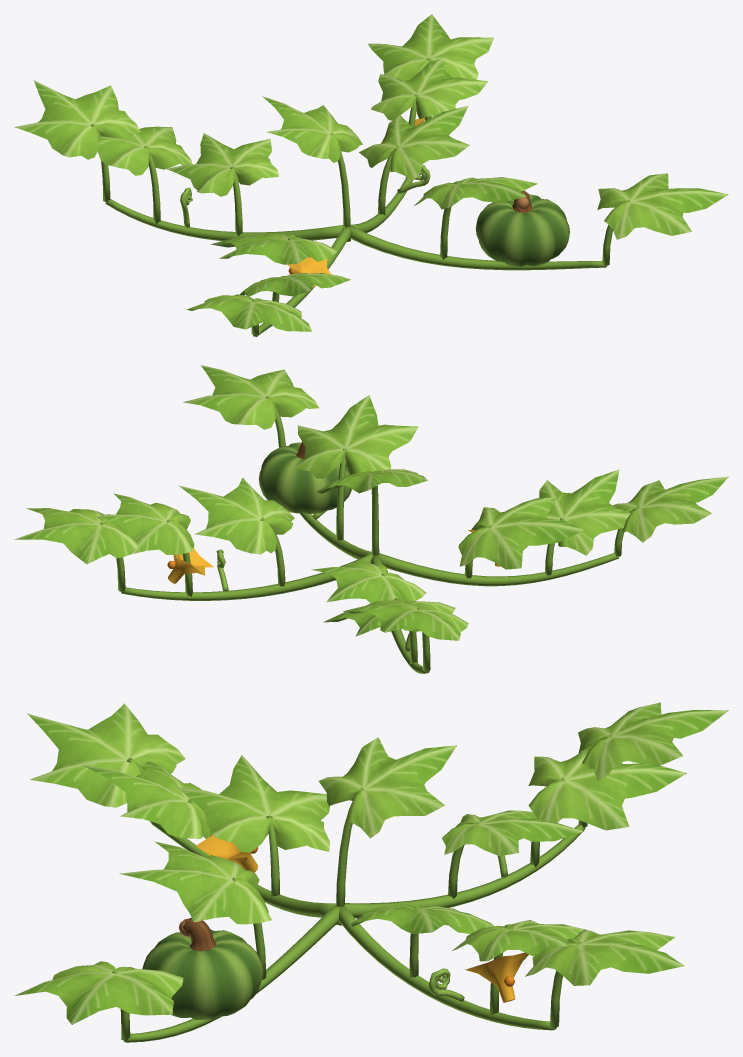
The model's file is crop_pumpkin_2.glb.
3 renders of one model, top to bottom at view 1: azimuth 30°, elevation 25°; view 2: azimuth 150°, elevation 25°; view 3: azimuth 270°, elevation 25°, orthographic. The views are drawn at different scales.
Parts seen in each view (by area): view 1: model; view 2: model; view 3: model.
Part boxes in pixels (x1,y1,x2,y2): model: (14,14,728,336); model: (14,365,728,673); model: (14,702,728,1042).
Bounding box in the file's own units: 1.08 × 0.2773 × 1.
8 materials, 3 textured.
